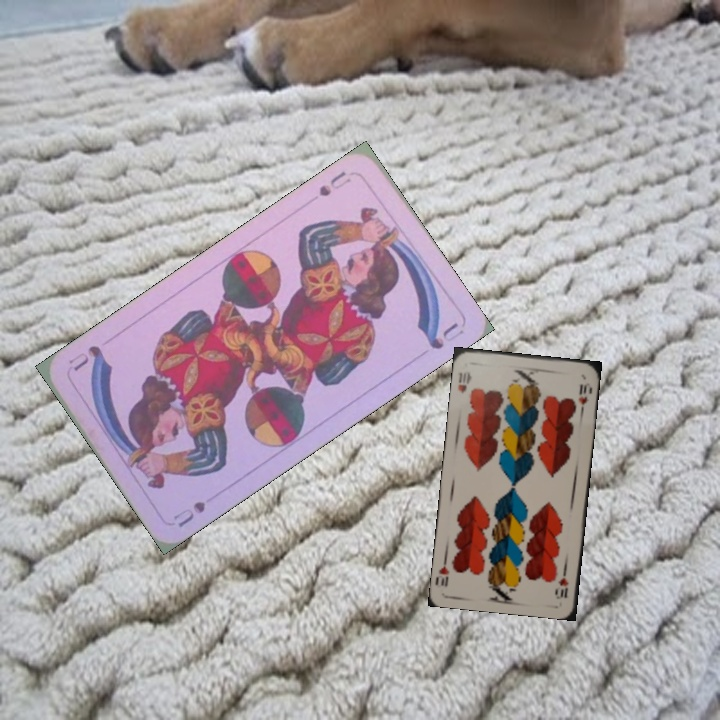H10: (553, 562, 571, 601), (454, 367, 474, 396)
SU: (169, 497, 209, 531), (315, 167, 354, 199)
